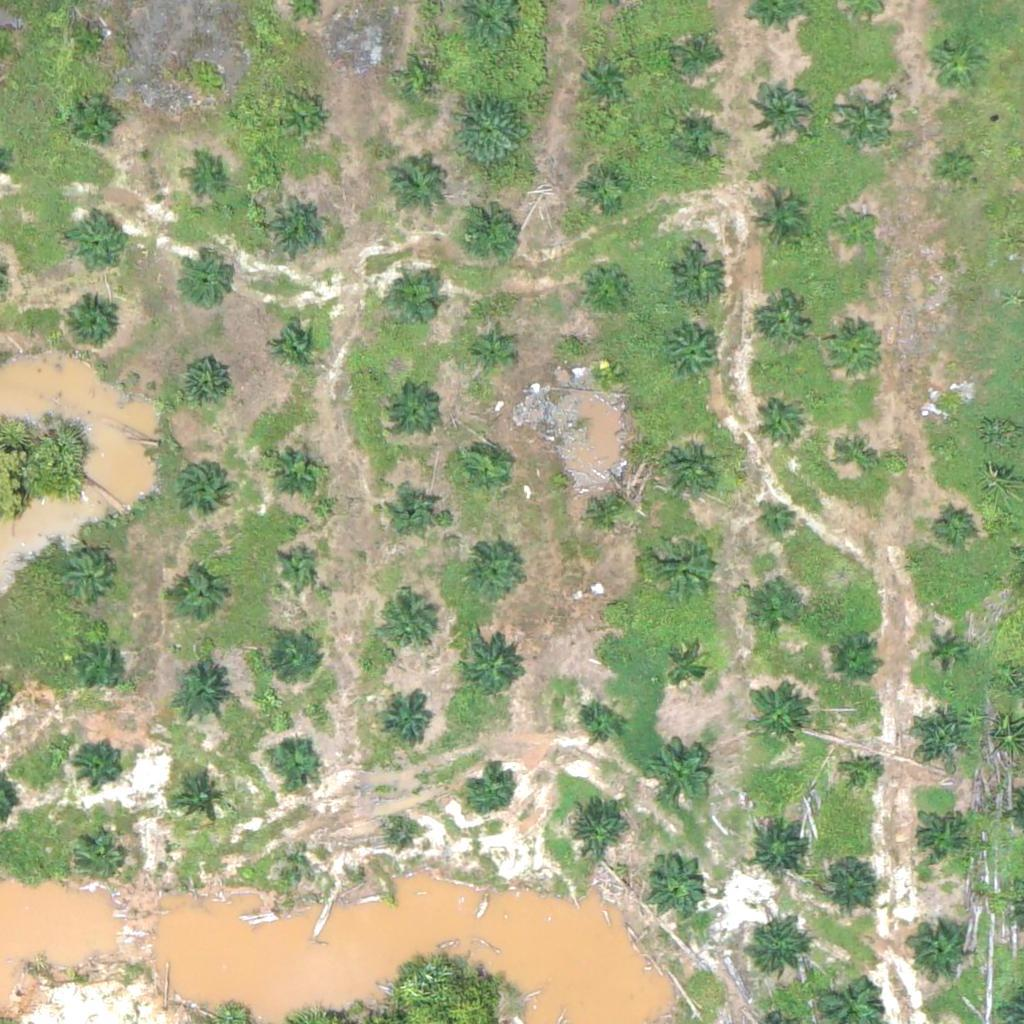Kelapa_Sawit: (453, 196, 528, 272), (648, 522, 723, 598), (453, 92, 528, 168), (908, 701, 971, 764), (645, 742, 708, 805), (382, 151, 445, 214), (924, 33, 987, 96), (667, 247, 730, 310), (170, 665, 233, 728), (267, 197, 330, 260), (742, 919, 805, 982), (641, 851, 704, 914), (909, 920, 972, 983), (744, 683, 806, 746), (461, 631, 523, 694), (379, 594, 441, 657), (659, 439, 721, 502), (747, 191, 809, 254), (834, 92, 896, 155), (750, 75, 812, 138), (458, 541, 520, 604), (61, 294, 123, 357), (265, 436, 327, 499), (65, 212, 127, 275), (564, 796, 626, 859), (664, 326, 726, 388), (749, 821, 811, 883), (816, 849, 878, 911), (268, 732, 318, 783), (272, 633, 322, 684), (170, 570, 220, 621), (181, 256, 231, 307), (64, 555, 114, 606), (75, 638, 125, 689), (75, 736, 125, 787), (175, 775, 225, 826), (178, 357, 228, 408), (269, 321, 319, 372), (71, 93, 121, 144), (383, 698, 433, 748), (464, 765, 514, 815), (390, 482, 440, 532), (393, 276, 443, 326), (389, 386, 439, 436), (579, 259, 629, 309), (578, 163, 628, 213), (760, 294, 810, 344), (830, 326, 880, 376), (743, 589, 793, 639), (456, 442, 506, 492), (175, 460, 225, 510), (913, 811, 963, 861), (829, 636, 879, 686), (660, 645, 710, 695), (575, 702, 625, 752), (583, 485, 633, 535), (77, 837, 127, 887), (672, 29, 722, 79), (674, 113, 724, 163), (580, 49, 630, 99), (755, 398, 805, 448), (471, 332, 509, 370), (184, 162, 222, 200), (845, 757, 883, 795), (758, 500, 796, 538), (835, 211, 873, 249), (933, 394, 971, 432), (839, 436, 877, 474), (289, 105, 326, 143), (924, 632, 961, 670), (938, 508, 976, 545), (278, 549, 315, 587), (73, 23, 110, 61), (938, 148, 975, 185), (411, 69, 436, 95), (389, 818, 414, 843), (592, 360, 617, 385), (599, 595, 624, 620), (294, 852, 319, 877)
